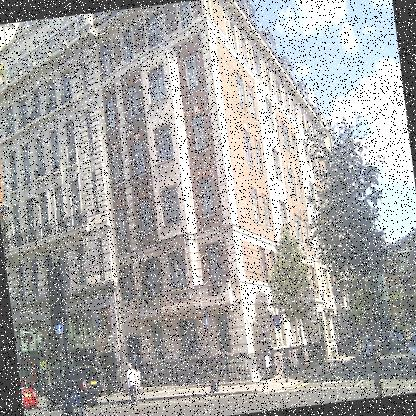Car: (42, 363, 104, 409), (352, 336, 382, 360), (20, 378, 38, 408), (404, 325, 415, 365), (394, 326, 404, 342), (384, 329, 393, 344)
